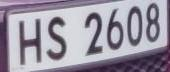0: (126, 2, 145, 51)
2: (82, 5, 107, 61)
6: (104, 2, 126, 57)
8: (143, 1, 162, 44)
H: (15, 12, 47, 72)
S: (45, 11, 71, 66)
